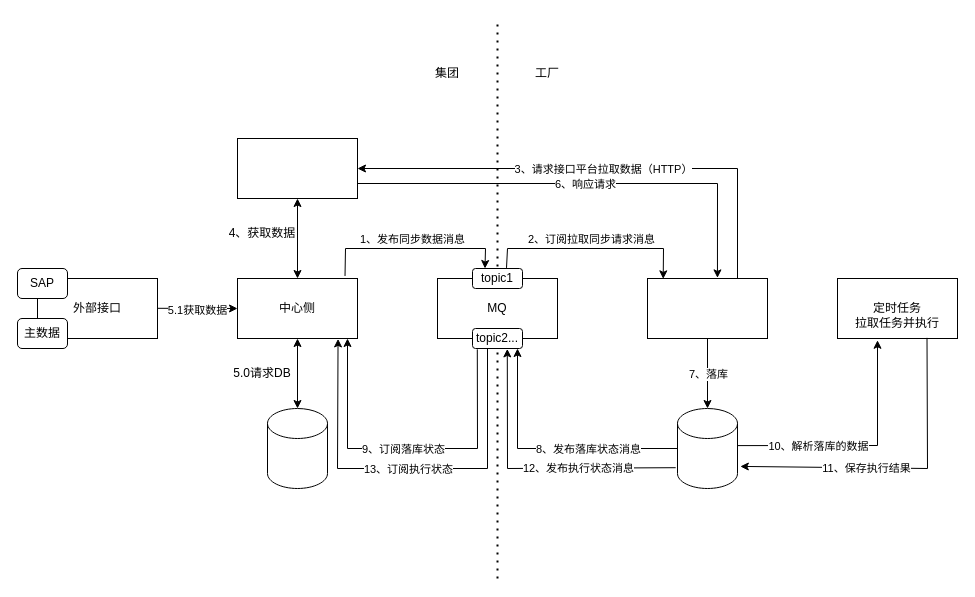
This 975x597 diagram has some shape labels left out. Here are the shapes that lost their labels. From the top down, the centre of each, then its label:
(297,168): 接口平台
(707,308): 工厂侧
(297,448): 中心DB
(707,448): 工厂DB
